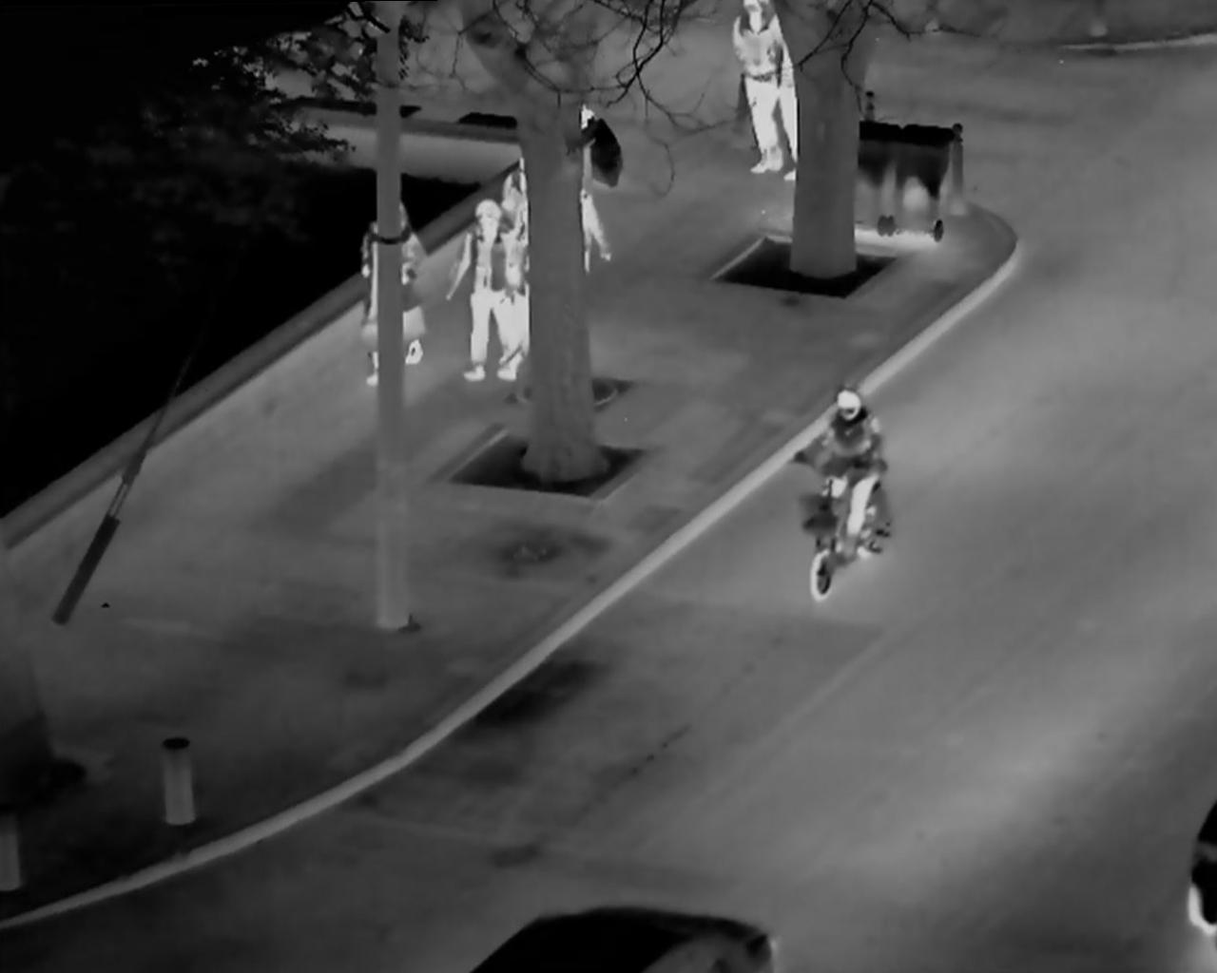person: (798, 367, 894, 600), (448, 177, 522, 382), (358, 188, 433, 382), (725, 6, 790, 187), (570, 87, 622, 279), (497, 158, 531, 317)
